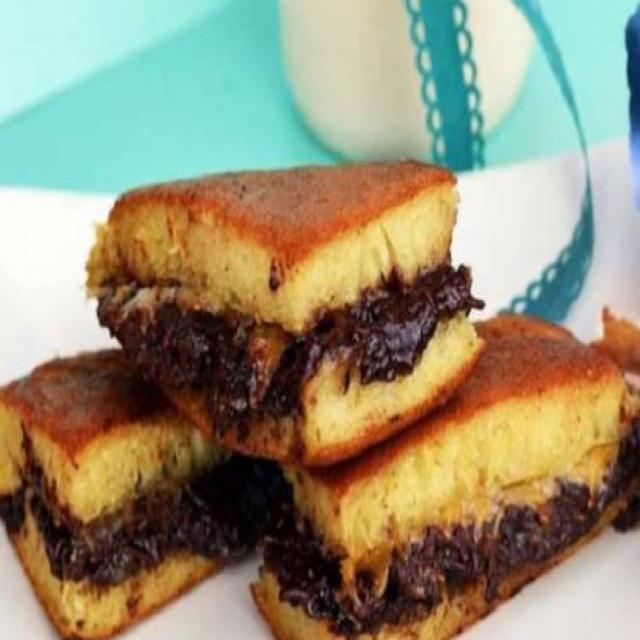Fried Egg: (0, 158, 639, 639)
